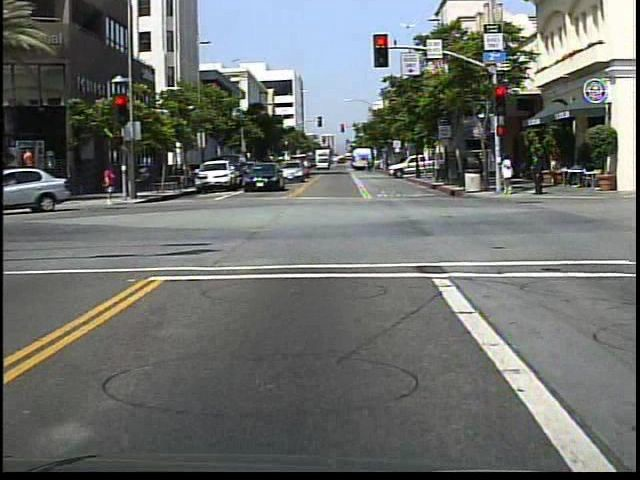person: (527, 147, 548, 196), (500, 151, 516, 200), (104, 163, 120, 210)
